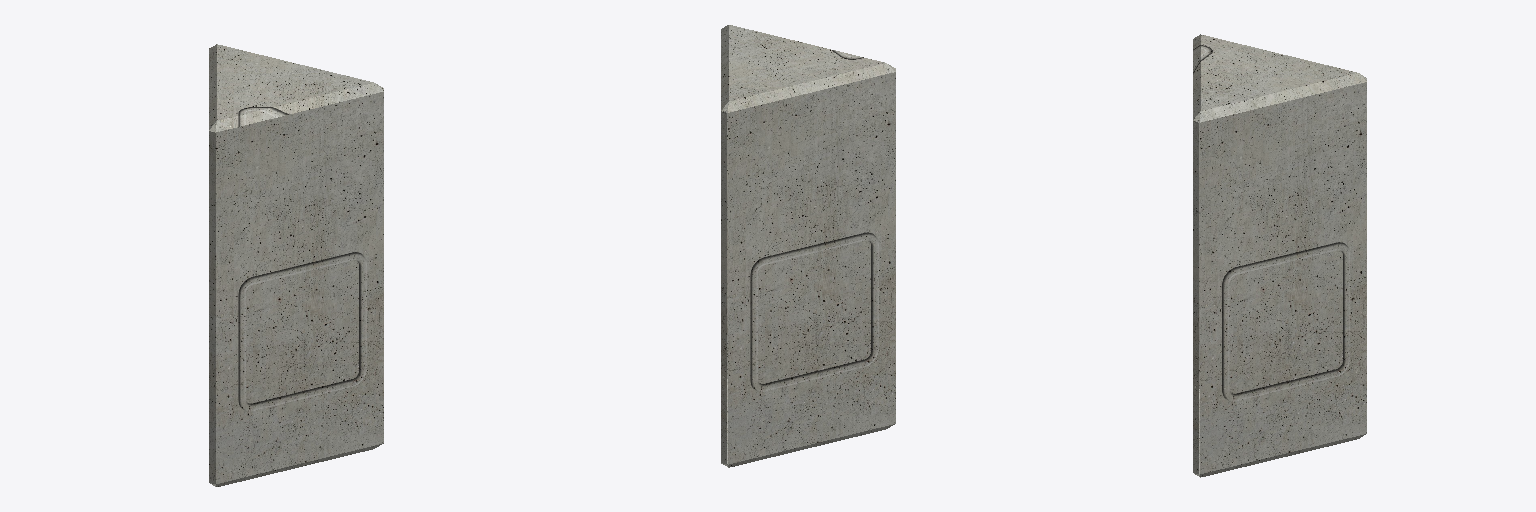
3 views of the same model, side by side, from view 1: azimuth 30°, elevation 25°; view 2: azimuth 150°, elevation 25°; view 3: azimuth 270°, elevation 25° (orthographic).
Visible parts, largest first — view 1: Earth_Circle.009; view 2: Earth_Circle.009; view 3: Earth_Circle.009.
Boxes of the visible parts, box(x1,y1,x2,y2) form: Earth_Circle.009: box(209, 44, 383, 486); Earth_Circle.009: box(721, 25, 895, 467); Earth_Circle.009: box(1193, 34, 1366, 477).
Bounding box in the file's own units: 0.2498 × 0.5 × 0.2163.
1 materials, 1 textured.